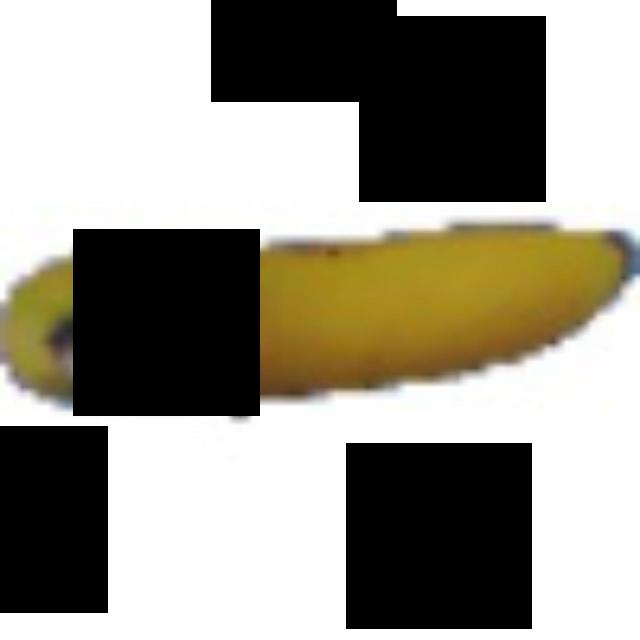banana: (2, 221, 640, 420)
